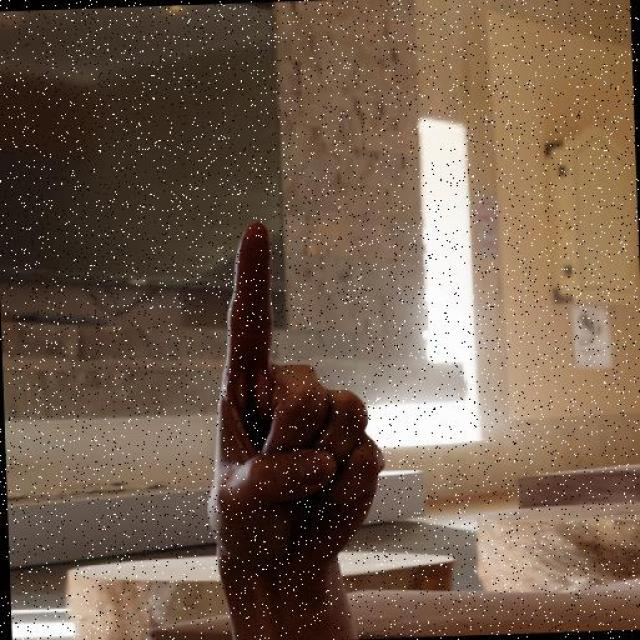Z: (186, 192, 398, 630)
